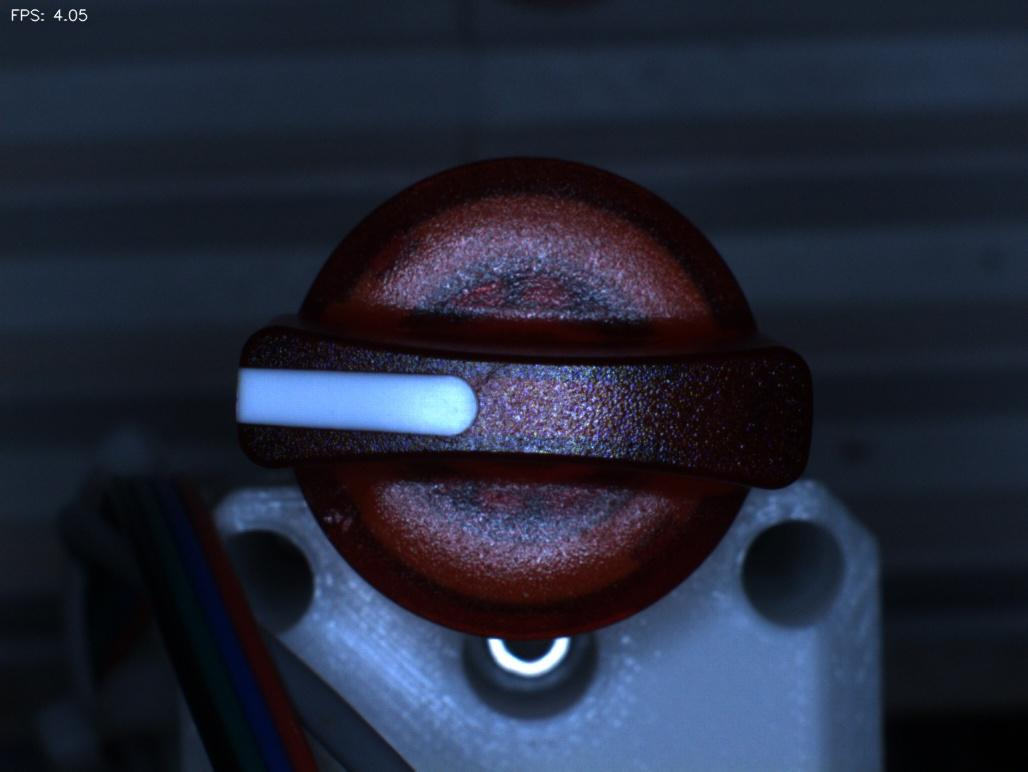Choc: (304, 480, 368, 552)
